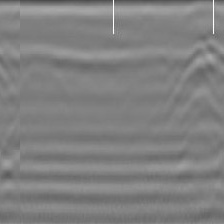Utility: (180, 33, 224, 89)
